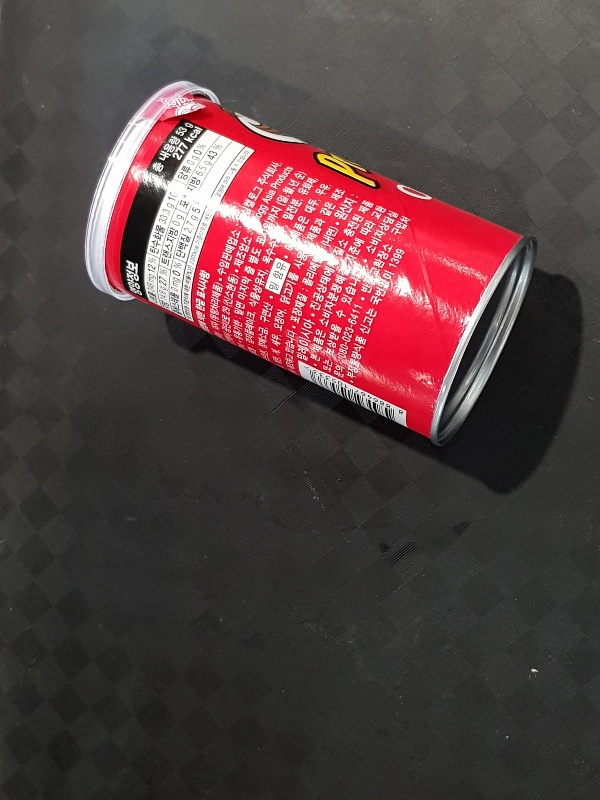Pringles Original: (82, 78, 540, 446)
